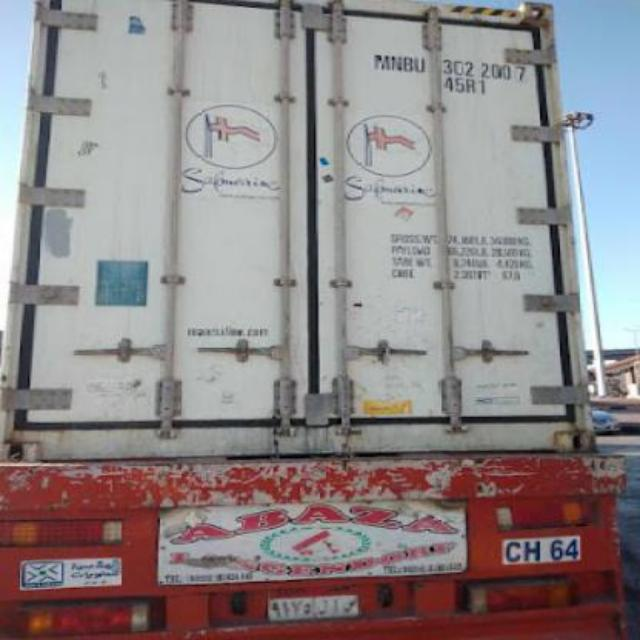0: (490, 62, 502, 80), (502, 63, 512, 81), (454, 59, 464, 75)
2: (480, 60, 490, 80), (466, 60, 474, 76)
3: (440, 57, 452, 77)
7: (516, 65, 524, 81)
B: (404, 56, 412, 72)
M: (372, 52, 392, 72)
N: (392, 55, 404, 71)
U: (414, 56, 426, 74)
